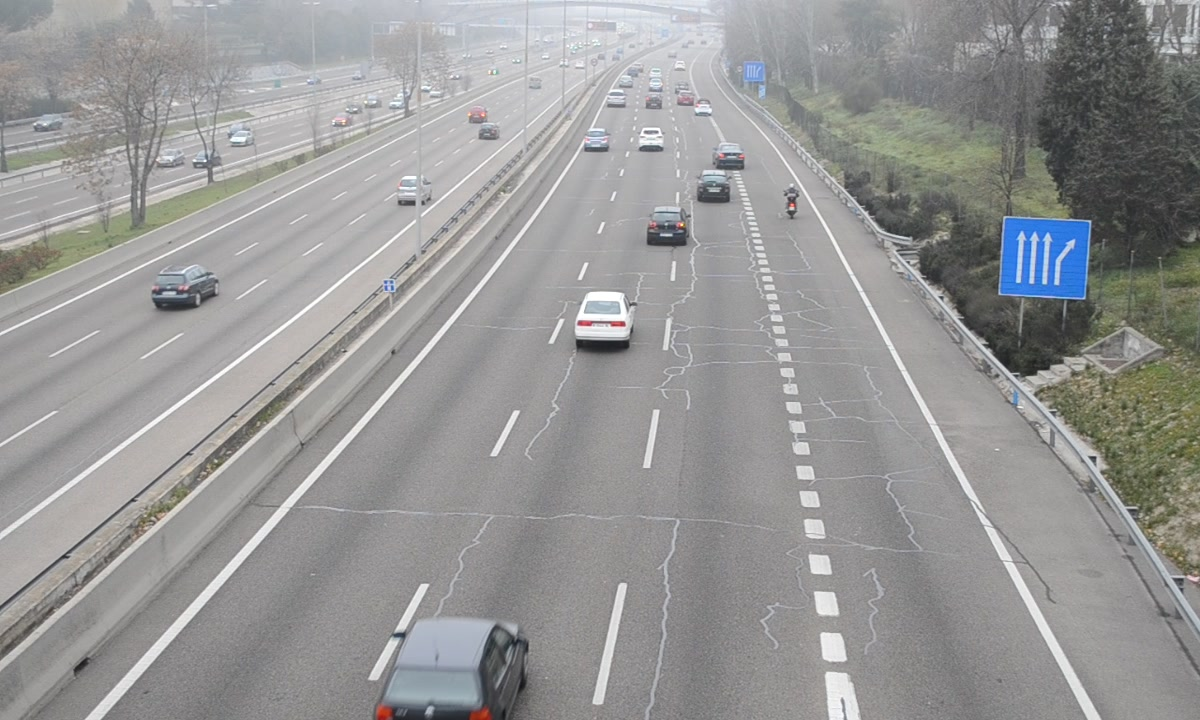car: (374, 617, 529, 719), (576, 290, 635, 343), (647, 207, 690, 247), (697, 170, 731, 203), (714, 142, 747, 169), (637, 126, 666, 151), (583, 128, 609, 152)
motorcycle: (784, 184, 802, 221)
